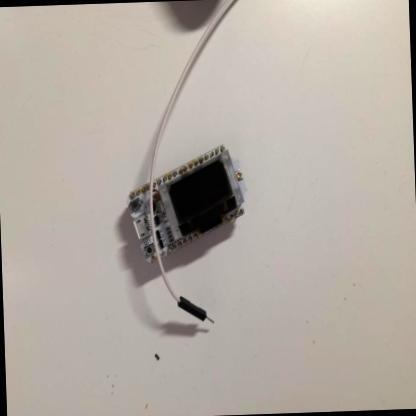Heltec_ESP32_Lora: (124, 139, 256, 267)
